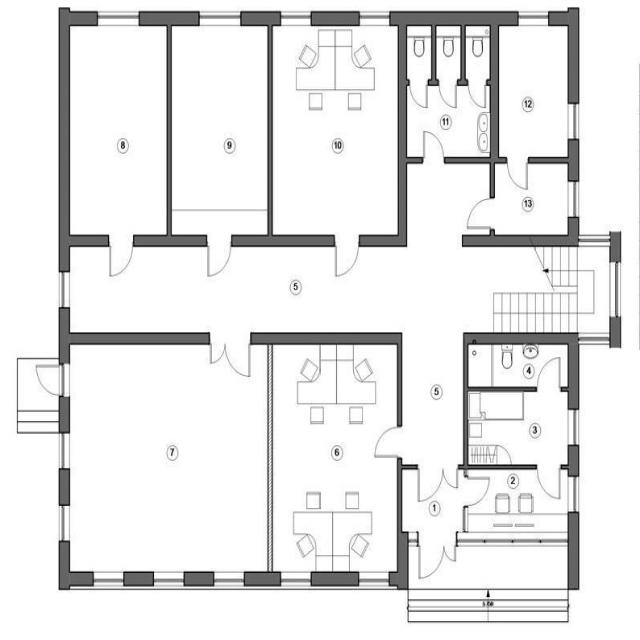Bathrooms: (407, 87, 490, 156), (470, 346, 567, 385), (408, 27, 430, 78), (437, 27, 459, 78), (466, 27, 488, 78)
Corridors: (71, 163, 491, 464), (409, 547, 567, 587), (404, 471, 463, 531)
Doors: (209, 332, 251, 381), (416, 531, 457, 581), (416, 463, 459, 505), (34, 362, 70, 396), (333, 234, 359, 279), (533, 355, 561, 393), (206, 235, 232, 275), (535, 464, 561, 504), (109, 235, 133, 277), (373, 425, 403, 458), (466, 198, 495, 230), (464, 476, 493, 508), (505, 156, 529, 193), (422, 129, 445, 164), (466, 79, 487, 112), (436, 79, 457, 110), (407, 78, 428, 108)
LBwalls: (358, 26, 407, 247), (463, 332, 579, 411), (462, 216, 579, 247), (548, 7, 580, 103), (59, 7, 70, 273), (390, 11, 518, 26), (251, 332, 402, 344), (71, 332, 210, 345), (231, 235, 334, 247), (490, 26, 499, 158), (390, 531, 409, 591), (139, 10, 199, 26), (134, 235, 207, 248), (567, 512, 579, 591), (311, 10, 359, 27), (311, 571, 358, 587), (241, 10, 281, 27), (59, 309, 71, 363), (244, 571, 281, 587), (184, 571, 214, 590), (124, 571, 154, 590), (568, 140, 580, 182), (59, 395, 71, 434), (70, 235, 109, 247), (70, 11, 98, 27), (59, 469, 70, 505), (610, 230, 622, 263), (609, 316, 621, 348), (568, 445, 579, 476)
Offices: (71, 346, 267, 571), (274, 345, 396, 571), (274, 27, 397, 235), (71, 26, 166, 234), (172, 26, 267, 234), (500, 27, 567, 156), (470, 394, 567, 464), (469, 471, 567, 530), (496, 166, 568, 234)
Stairs: (462, 247, 608, 332), (407, 587, 569, 622), (16, 356, 59, 435)
Walls: (458, 346, 538, 478), (444, 156, 507, 199), (398, 456, 419, 531), (268, 344, 272, 575), (167, 26, 171, 235), (268, 27, 272, 236), (427, 26, 440, 86), (311, 571, 358, 587), (457, 26, 469, 87), (398, 344, 402, 427), (529, 157, 567, 163), (462, 506, 468, 533), (407, 156, 422, 163), (560, 385, 569, 392), (561, 464, 569, 471), (490, 228, 495, 235), (486, 79, 491, 86), (407, 78, 410, 87)
Windows: (456, 531, 567, 545), (97, 10, 139, 27), (609, 263, 621, 317), (199, 12, 241, 27), (358, 571, 389, 589), (94, 571, 124, 589), (154, 571, 184, 589), (214, 571, 244, 589), (281, 572, 311, 589), (281, 11, 311, 27), (578, 333, 610, 348), (519, 11, 549, 26), (359, 12, 390, 26), (567, 476, 579, 512), (567, 181, 579, 216), (567, 410, 579, 445), (58, 434, 70, 469), (59, 271, 70, 309), (579, 234, 610, 247), (59, 505, 70, 541), (569, 103, 579, 140), (408, 531, 419, 546)
